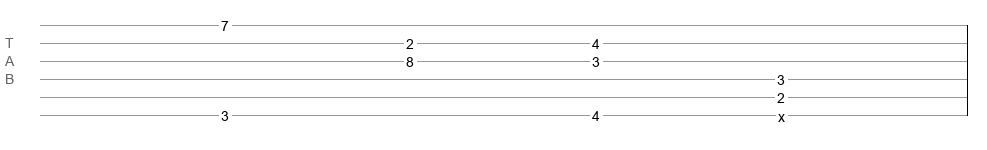2: (406, 36, 414, 46), (777, 90, 785, 100)
3: (221, 108, 229, 118), (592, 54, 600, 64), (777, 72, 785, 82)
4: (592, 108, 600, 118), (592, 36, 600, 46)
7: (221, 18, 229, 28)
8: (406, 54, 414, 64)
x: (778, 109, 785, 117)
